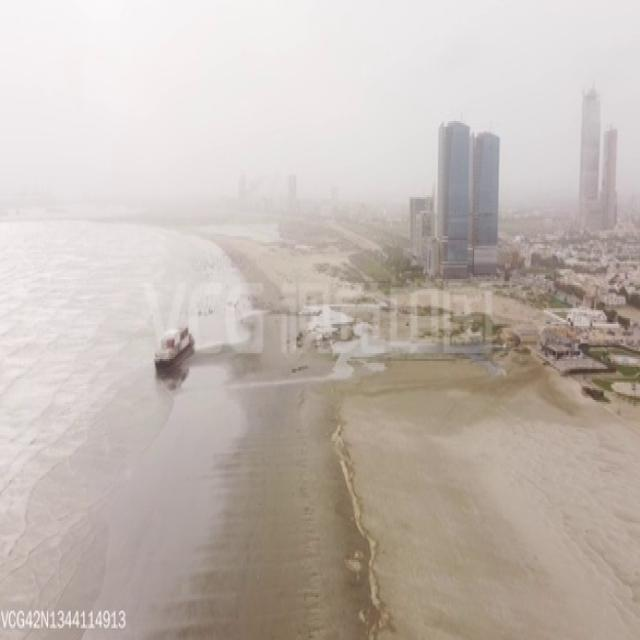cargoship: (153, 322, 194, 373)
